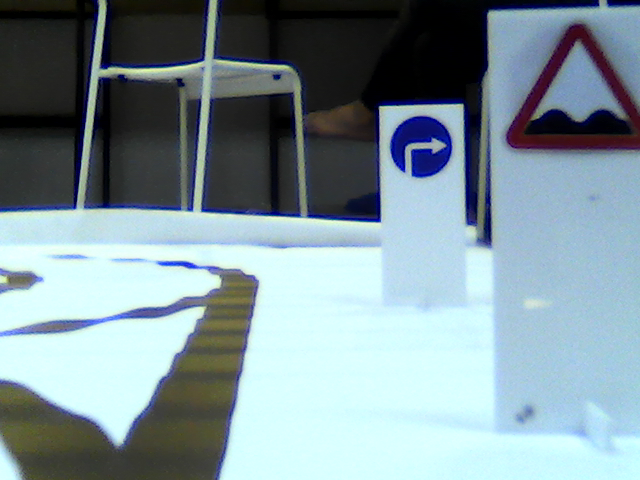Nerov: (500, 20, 639, 155)
Right: (389, 114, 454, 177)
